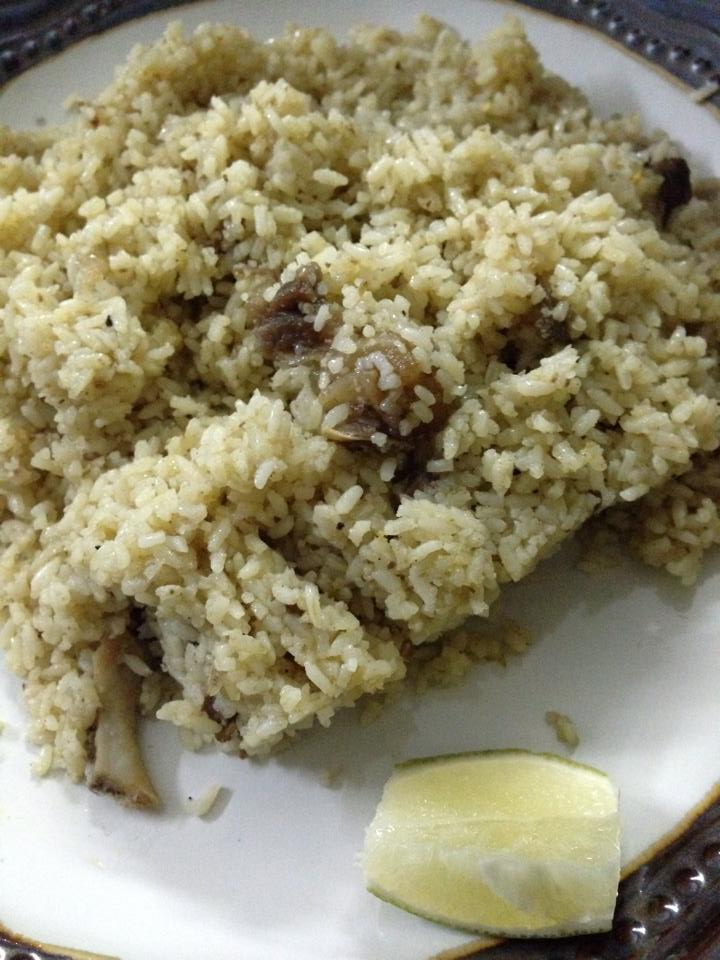tehari: (3, 18, 719, 814)
